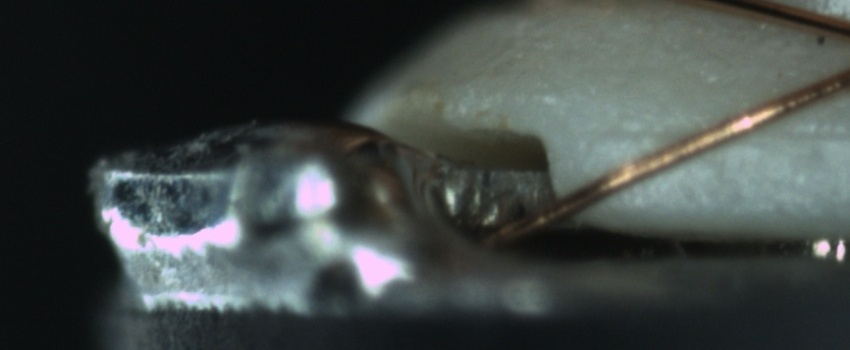DL: (612, 108, 848, 164)
